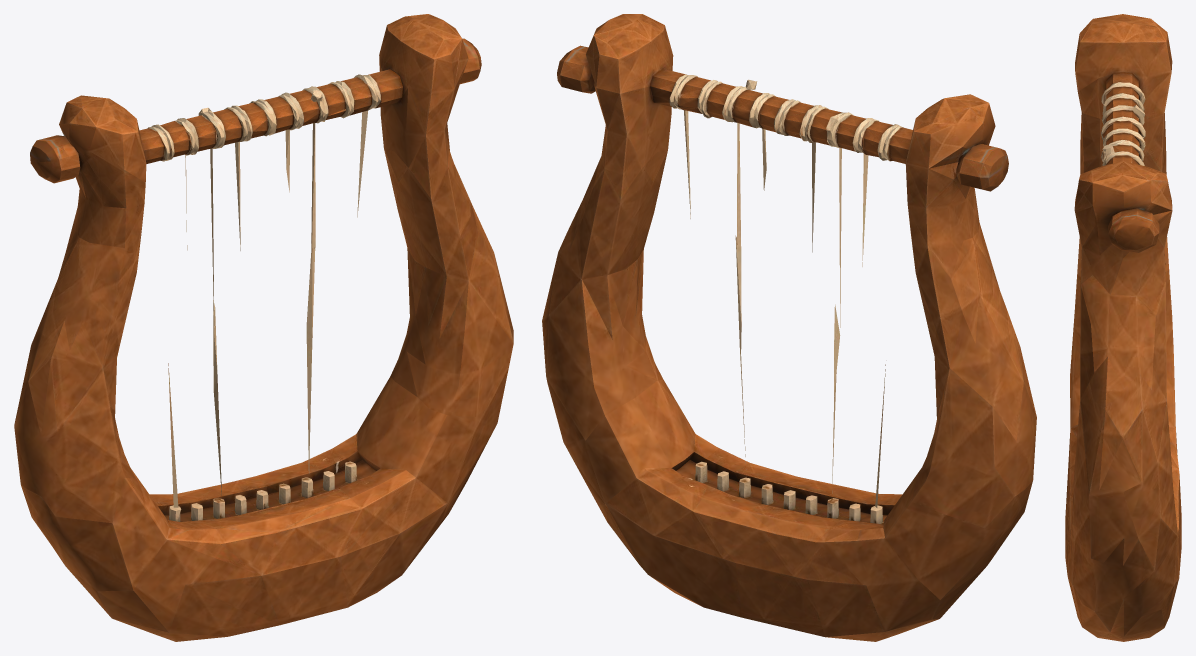
Rendered from harp.glb.
3 views of the same model, side by side, from view 1: azimuth 30°, elevation 25°; view 2: azimuth 150°, elevation 25°; view 3: azimuth 270°, elevation 25° (orthographic). The views are drawn at different scales.
Size of the model in its own units: 1.74 by 1.9 by 0.3941.
1 material, 1 textured.
